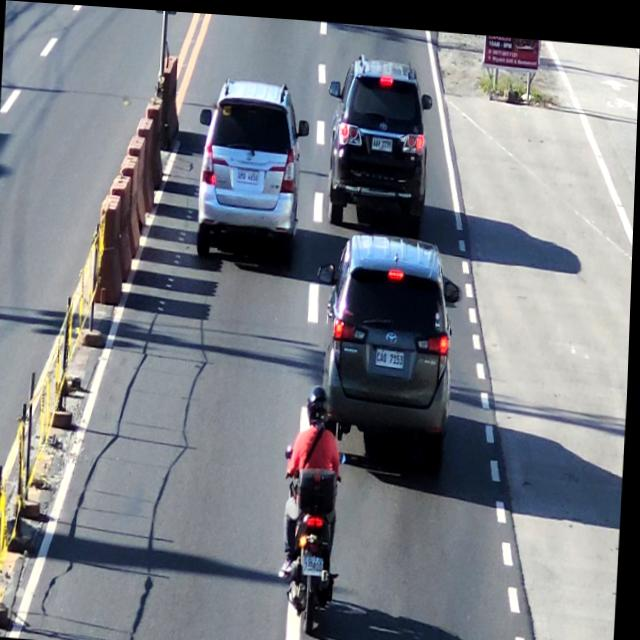Car: (319, 225, 465, 444), (196, 70, 310, 261), (330, 51, 433, 209)
License-Plate: (376, 336, 410, 371), (301, 545, 330, 569), (237, 161, 263, 185), (369, 126, 395, 147)
Motorcycle: (275, 387, 356, 633)
